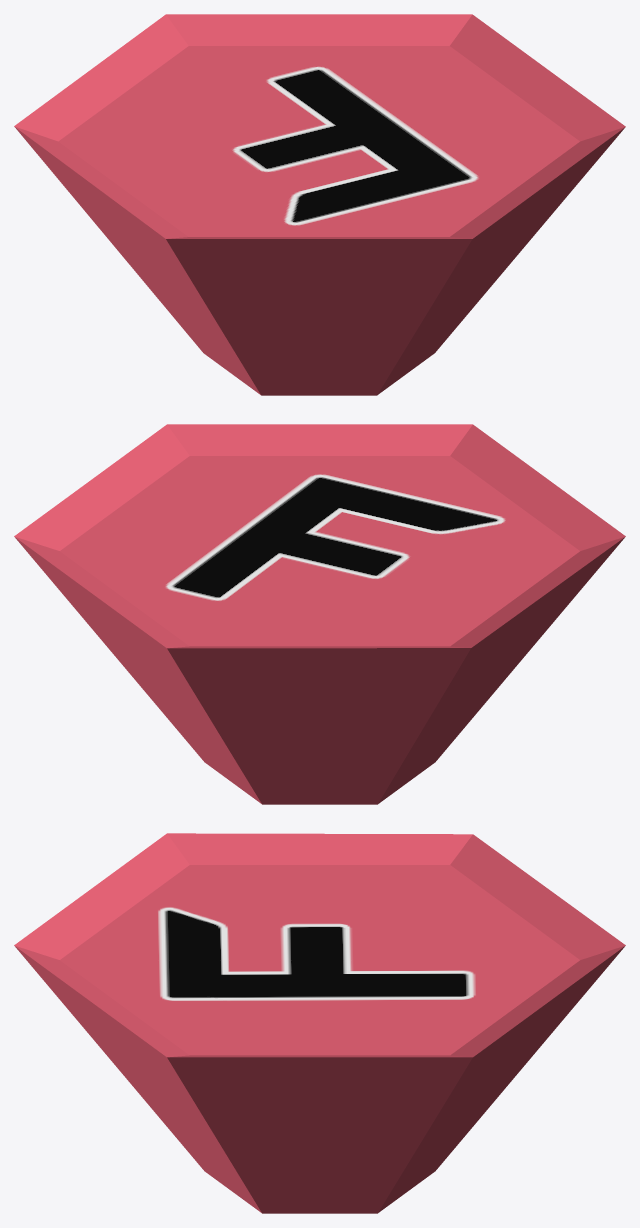
The model's file is Float.fbx.
3 renders of one model, top to bottom at view 1: azimuth 30°, elevation 25°; view 2: azimuth 150°, elevation 25°; view 3: azimuth 270°, elevation 25°, orthographic.
Parts seen in each view (by area): view 1: Float Tile; view 2: Float Tile; view 3: Float Tile.
Part boxes in pixels (x1,y1,x2,y2): Float Tile: (14, 14, 625, 395); Float Tile: (14, 424, 625, 804); Float Tile: (14, 833, 625, 1213).
Bounding box in the file's own units: 425 × 200 × 491.
